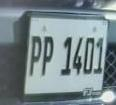0: (83, 30, 96, 81)
1: (59, 31, 74, 80), (93, 33, 105, 76)
4: (72, 29, 85, 83), (72, 32, 84, 80)
P: (41, 29, 57, 84), (30, 29, 44, 85)
